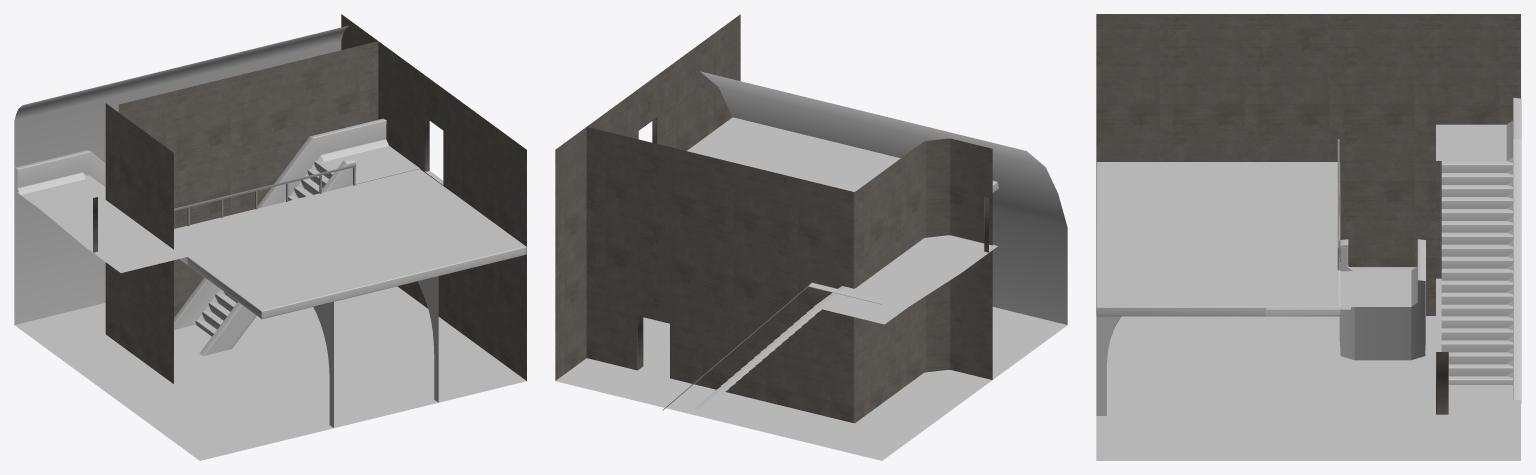
The model's file is HC_room2_servers.gltf.
3 views of the same model, side by side, from view 1: azimuth 30°, elevation 25°; view 2: azimuth 150°, elevation 25°; view 3: azimuth 270°, elevation 25° (orthographic). The views are drawn at different scales.
Visible parts, largest first — view 1: 3room_HCZ; view 2: 3room_HCZ; view 3: 3room_HCZ.
Part boxes in pixels (x1,y1,x2,y2): 3room_HCZ: [14, 14, 526, 460]; 3room_HCZ: [555, 14, 1067, 460]; 3room_HCZ: [1096, 14, 1521, 460].
Size of the model in its own units: 20.94 by 15.75 by 20.04.
